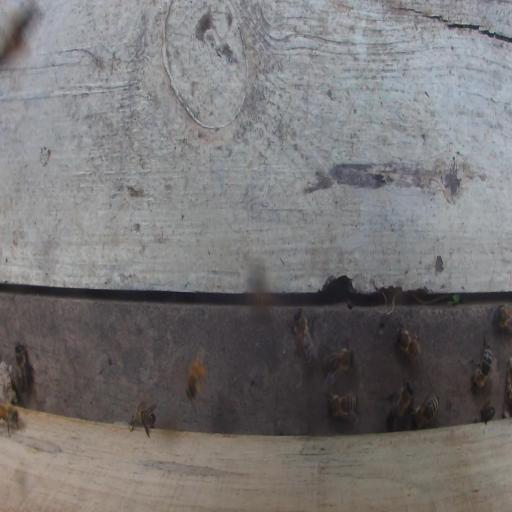bee: (468, 334, 492, 390), (185, 337, 206, 400), (291, 309, 314, 365), (389, 378, 414, 429), (393, 323, 422, 366), (2, 14, 31, 57), (130, 400, 158, 438), (326, 391, 359, 422), (322, 346, 355, 376), (411, 394, 439, 429), (14, 342, 30, 393), (0, 402, 21, 439), (493, 303, 512, 333), (474, 403, 496, 424)
